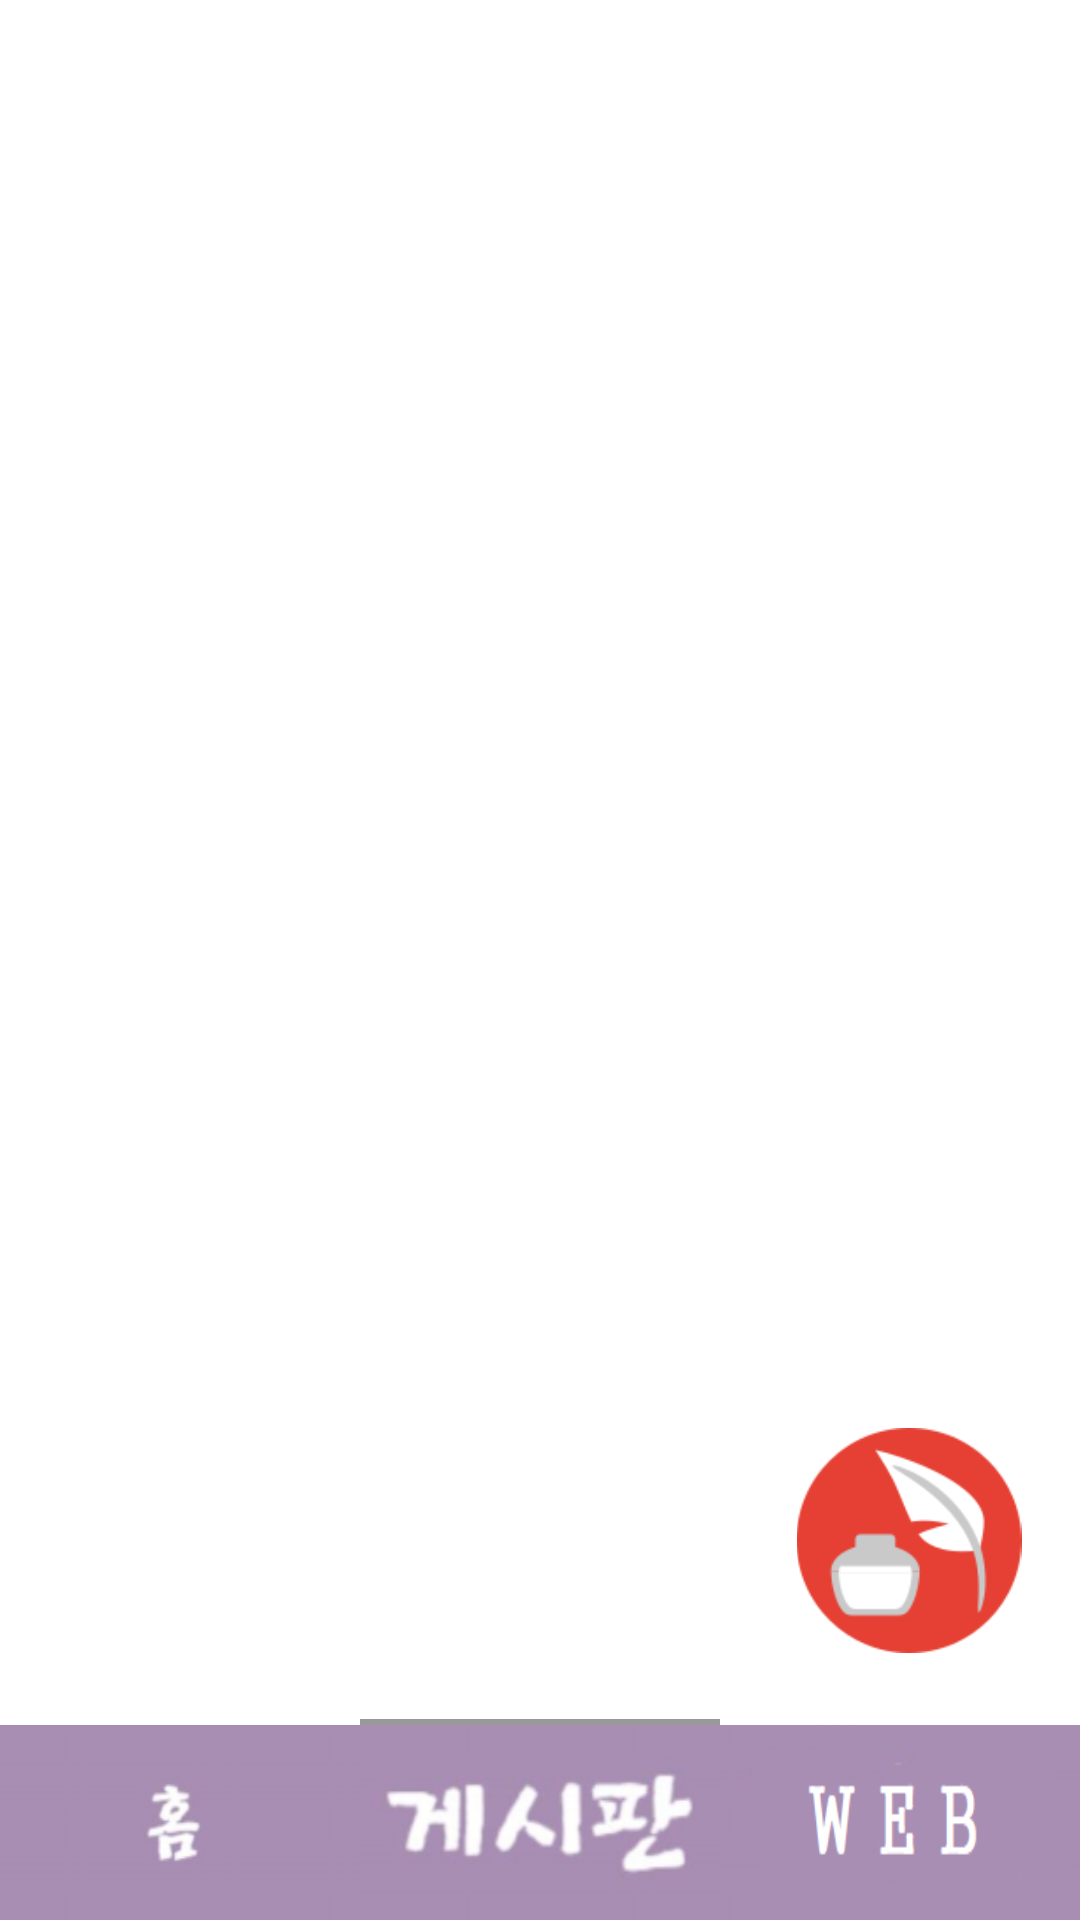

Named icons in this screenshot (1080w x 1920h) and their bounding boxes, (left=x1, top=y1, right=x2, bottom=y2):
write: (left=797, top=1428, right=1022, bottom=1653)
